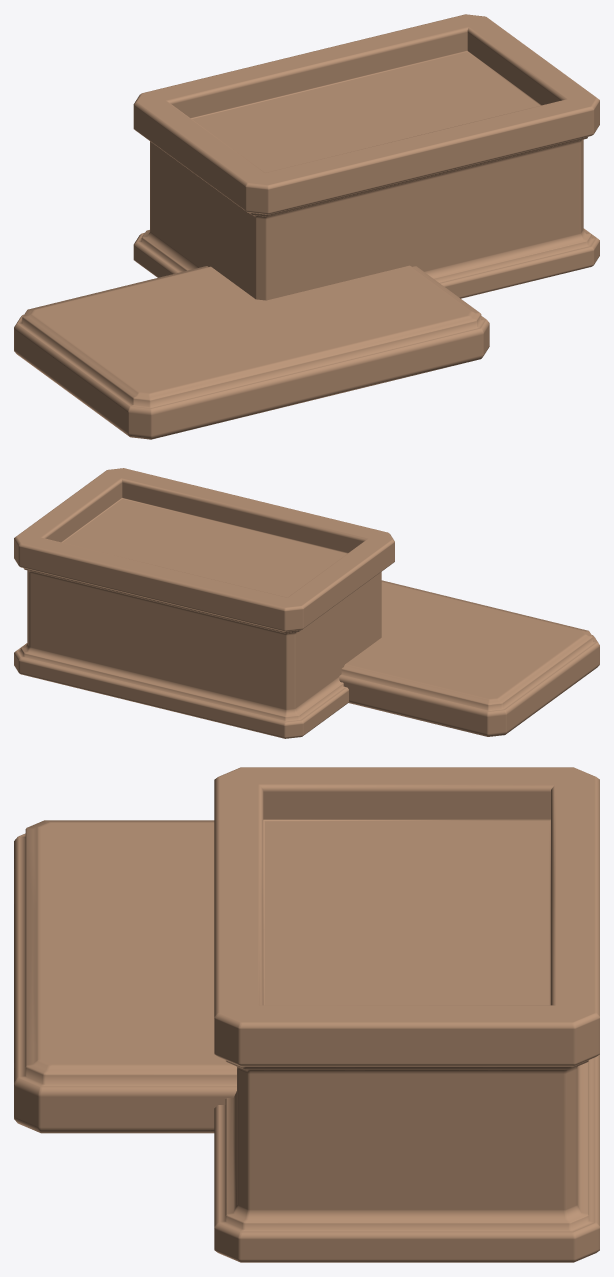
Rendered from Chests_Stone_01.fbx.
The picture shows the model from 3 angles, top to bottom: view 1: azimuth 30°, elevation 25°; view 2: azimuth 150°, elevation 25°; view 3: azimuth 270°, elevation 25°; orthographic projection. The views are drawn at different scales.
Visible parts, largest first — view 1: Chest_Stone_01_1, Chest_Stone_Upped_Draw, Chest_Stone_Upped_Clear; view 2: Chest_Stone_01_1, Chest_Stone_Upped_Draw, Chest_Stone_Upped_Clear; view 3: Chest_Stone_01_1, Chest_Stone_Upped_Draw, Chest_Stone_Upped_Clear.
Part boxes in pixels (<box>): Chest_Stone_01_1: <box>133,14,599,300</box>; Chest_Stone_Upped_Draw: <box>14,265,489,439</box>; Chest_Stone_Upped_Clear: <box>107,267,391,373</box>; Chest_Stone_01_1: <box>14,468,394,738</box>; Chest_Stone_Upped_Draw: <box>339,580,599,736</box>; Chest_Stone_Upped_Clear: <box>347,582,523,683</box>; Chest_Stone_01_1: <box>214,767,599,1262</box>; Chest_Stone_Upped_Draw: <box>14,820,236,1133</box>; Chest_Stone_Upped_Clear: <box>41,879,214,1005</box>.
Size of the model in its own units: 2.46 by 0.7 by 1.55.
